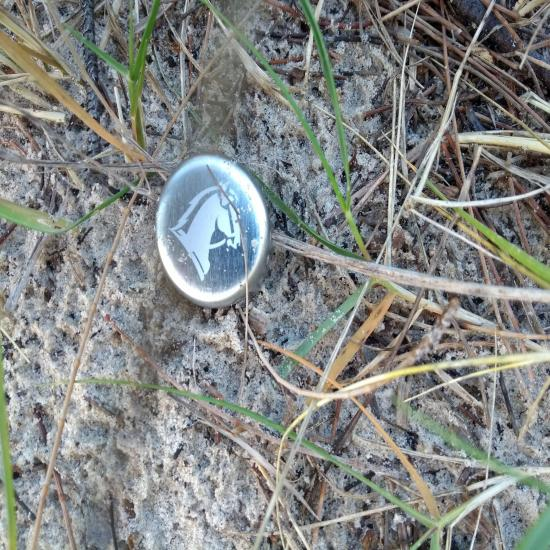Metal bottle cap: (154, 151, 274, 309)
